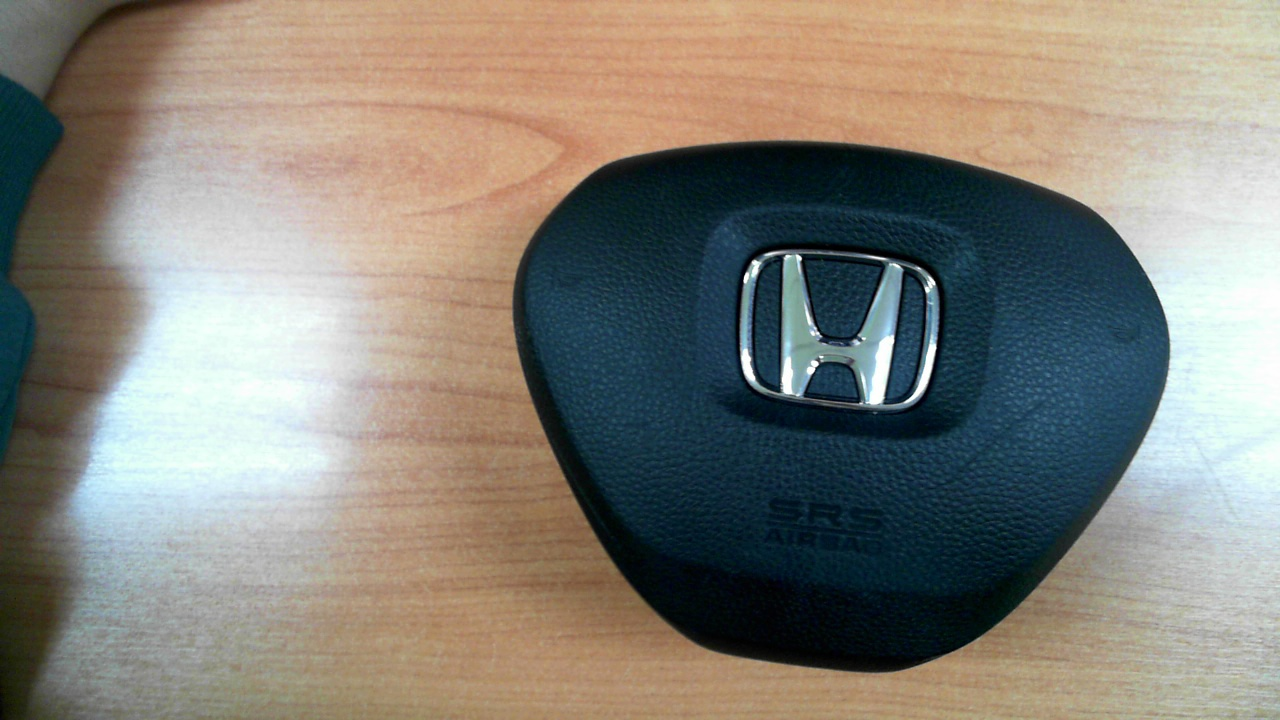Airbag: (511, 140, 1172, 674)
Honda: (739, 248, 940, 411)
